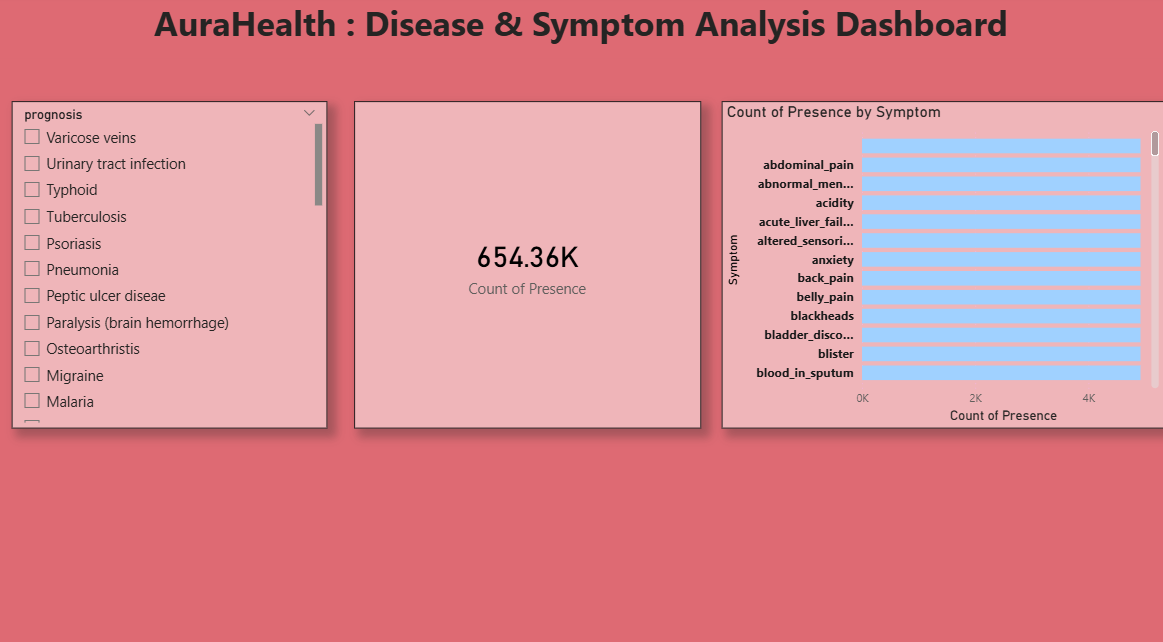

This screenshot's page, from the dashboard's own definition file:
{"tool":"powerbi","page":{"name":"Symptom Overview","canvas":[1280,720],"ordinal":0},"visuals":[{"type":"clusteredBarChart","fields":{"Category":["Training.Symptom"],"Y":["CountNonNull(Training.Presence)"]},"box":[793.9,116.9,486.1,359.2],"z":0},{"type":"slicer","fields":{"Values":["Training.prognosis"]},"box":[15.7,116.9,346.4,359.2],"z":1000},{"type":"card","fields":{"Values":["CountNonNull(Training.Presence)"]},"box":[390.6,116.9,380.6,359.2],"z":2000},{"type":"textbox","box":[0,0,1280,69.8],"z":2001}]}

Visuals, with their boxes in screenshot pixels (x1, y1, x2, y2), scaled from the page's 1280x720 canvas onto the 1163x642 screenshot:
clusteredBarChart - Training.Symptom x CountNonNull(Training.Presence): 721:104:1162:425
slicer - Training.prognosis: 14:104:329:425
card - CountNonNull(Training.Presence): 355:104:701:425
textbox: 0:0:1162:62
